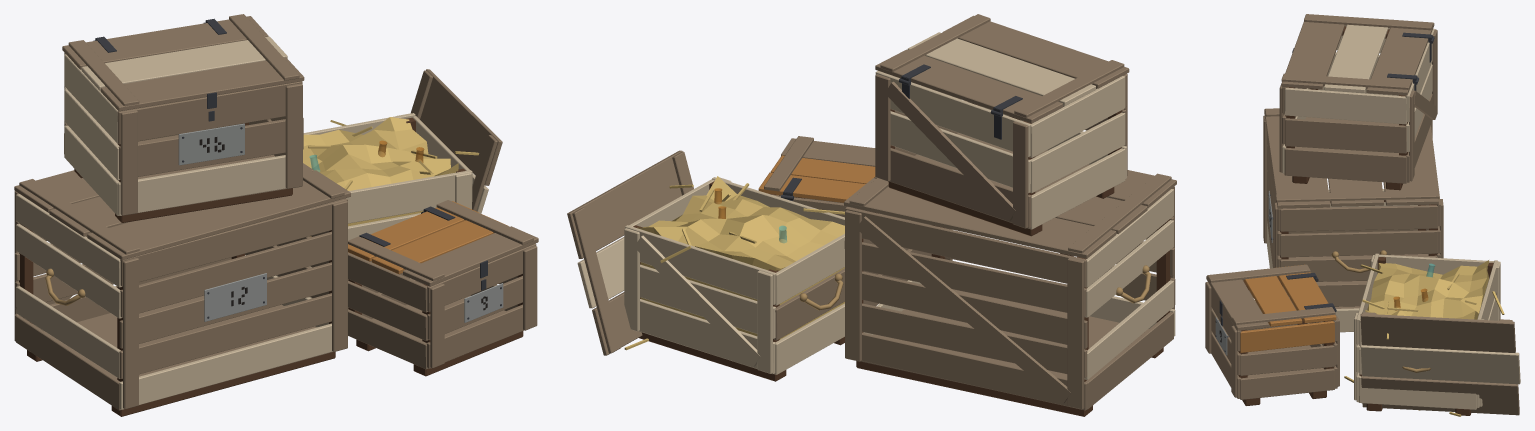
The model's file is deco_crate_wood_stack.fbx.
The picture shows the model from 3 angles, left to right: view 1: azimuth 30°, elevation 25°; view 2: azimuth 150°, elevation 25°; view 3: azimuth 270°, elevation 25°; orthographic projection. The views are drawn at different scales.
Parts seen in each view (by area): view 1: Crate_WoodStack_CrateA, Crate_WoodStack_CrateB, Crate_WoodStack_CrateC, Crate_WoodStack_CrateB_Lid, Crate_WoodStack_CrateC_Lid, Crate_WoodStack_Straw, Crate_WoodStack_CrateD, Crate_WoodStack_LooseLid; view 2: Crate_WoodStack_CrateA, Crate_WoodStack_CrateB, Crate_WoodStack_CrateD, Crate_WoodStack_CrateB_Lid, Crate_WoodStack_Straw, Crate_WoodStack_LooseLid, Crate_WoodStack_CrateC_Lid; view 3: Crate_WoodStack_CrateA, Crate_WoodStack_CrateB, Crate_WoodStack_LooseLid, Crate_WoodStack_CrateB_Lid, Crate_WoodStack_CrateC, Crate_WoodStack_CrateC_Lid, Crate_WoodStack_Straw, Crate_WoodStack_CrateD.
Part boxes in pixels (bbox=[...]): Crate_WoodStack_CrateA: bbox=[14, 163, 350, 416]; Crate_WoodStack_CrateB: bbox=[64, 52, 303, 222]; Crate_WoodStack_CrateC: bbox=[348, 243, 537, 376]; Crate_WoodStack_CrateB_Lid: bbox=[62, 14, 304, 111]; Crate_WoodStack_CrateC_Lid: bbox=[348, 200, 538, 286]; Crate_WoodStack_Straw: bbox=[303, 117, 479, 226]; Crate_WoodStack_CrateD: bbox=[276, 113, 472, 298]; Crate_WoodStack_LooseLid: bbox=[411, 69, 502, 213]; Crate_WoodStack_CrateA: bbox=[844, 170, 1176, 416]; Crate_WoodStack_CrateB: bbox=[875, 71, 1127, 236]; Crate_WoodStack_CrateD: bbox=[624, 177, 844, 381]; Crate_WoodStack_CrateB_Lid: bbox=[875, 14, 1129, 123]; Crate_WoodStack_Straw: bbox=[624, 176, 844, 350]; Crate_WoodStack_LooseLid: bbox=[567, 150, 693, 355]; Crate_WoodStack_CrateC_Lid: bbox=[758, 136, 875, 202]; Crate_WoodStack_CrateA: bbox=[1263, 108, 1443, 332]; Crate_WoodStack_CrateB: bbox=[1279, 25, 1437, 190]; Crate_WoodStack_LooseLid: bbox=[1360, 312, 1520, 415]; Crate_WoodStack_CrateB_Lid: bbox=[1281, 14, 1434, 95]; Crate_WoodStack_CrateC: bbox=[1205, 272, 1339, 405]; Crate_WoodStack_CrateC_Lid: bbox=[1206, 264, 1336, 330]; Crate_WoodStack_Straw: bbox=[1344, 260, 1504, 416]; Crate_WoodStack_CrateD: bbox=[1354, 253, 1500, 415].
Size of the model in its own units: 265 by 158 by 183.
